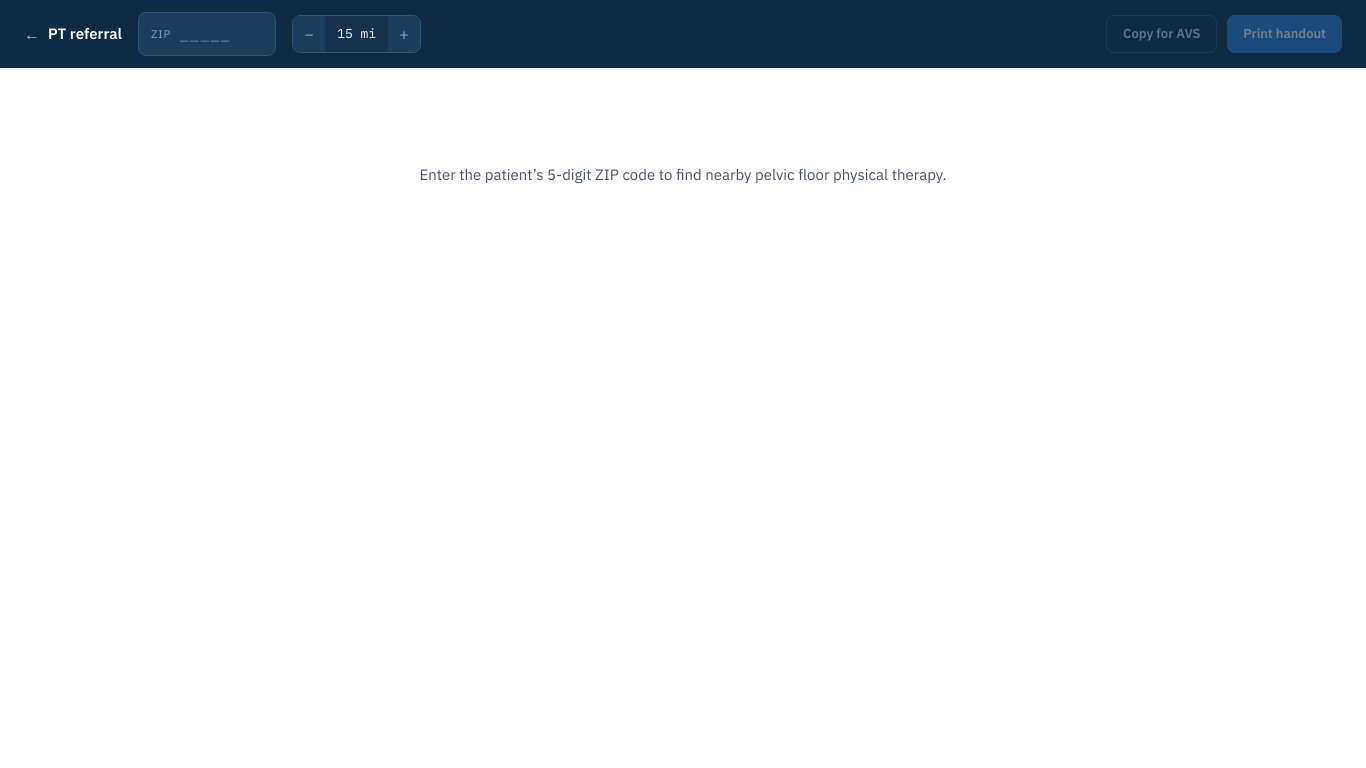
Test: SearchTherapists result banners › does not leave the skeleton on when the input settles back to its old value
In the field named "Patient ZIP code": (227, 34) top-left (179, 13), bottom-right (275, 54), type "5"
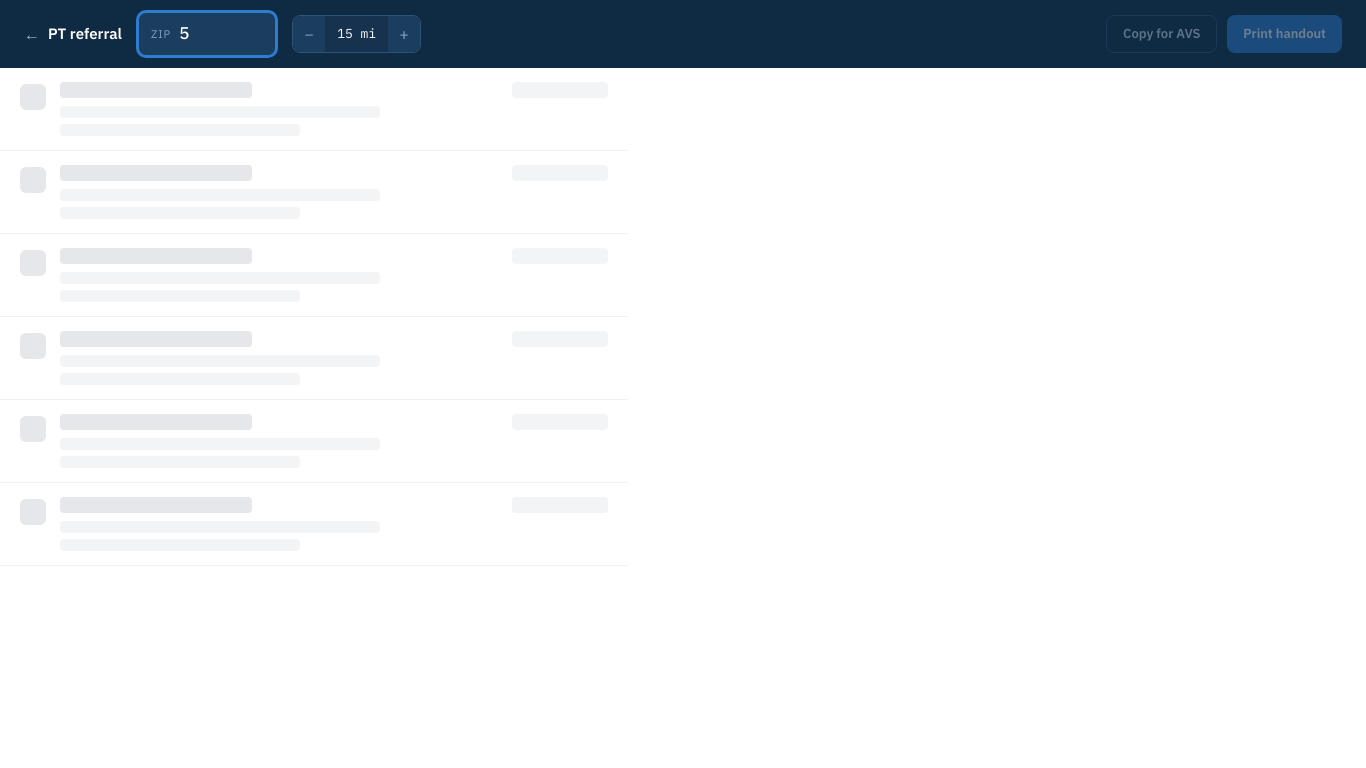
Clear the field named "Patient ZIP code": (227, 34) top-left (179, 13), bottom-right (275, 54)
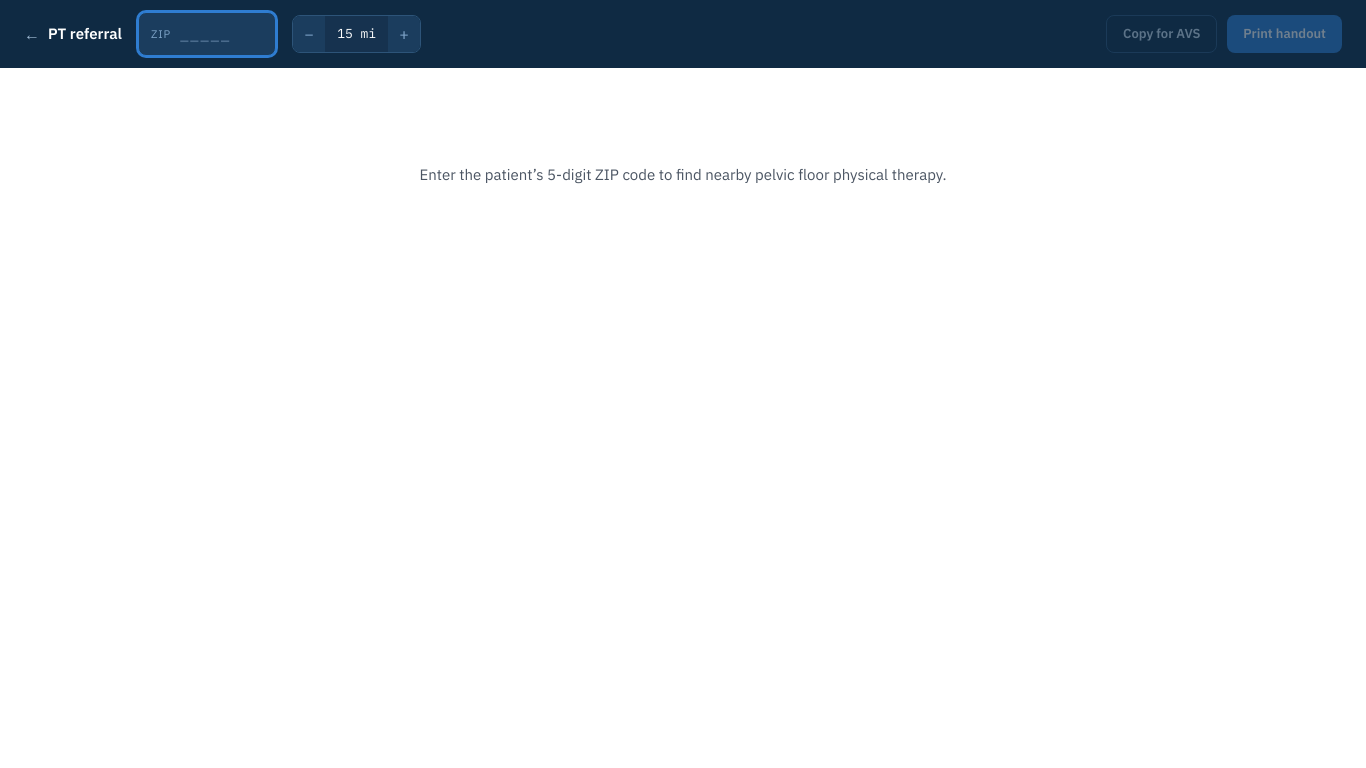
Result: no messages are shown
Result: the text "Enter the patient.s 5-digit ZIP code" is shown at top-left (420, 164), bottom-right (947, 184)
